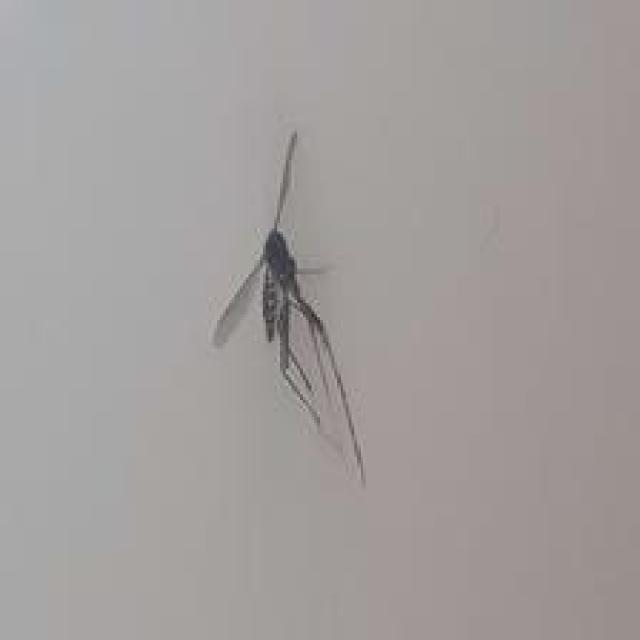Aedes albopictus: (210, 128, 367, 486)
